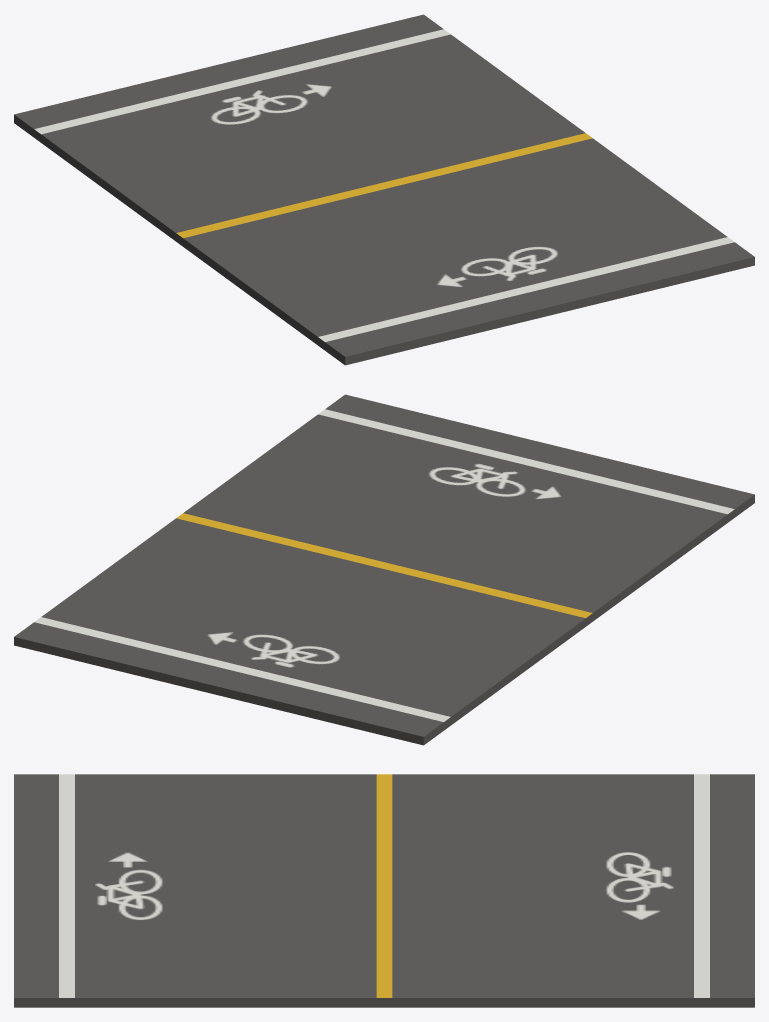
File: SM_Ground_RoadBike_700x500_01.fbx
3 renders of one model, top to bottom at view 1: azimuth 30°, elevation 25°; view 2: azimuth 150°, elevation 25°; view 3: azimuth 270°, elevation 25°, orthographic. The views are drawn at different scales.
Parts seen in each view (by area): view 1: SM_Ground_RoadBike_700x500_01; view 2: SM_Ground_RoadBike_700x500_01; view 3: SM_Ground_RoadBike_700x500_01.
Boxes of the visible parts, bbox=[...] form: SM_Ground_RoadBike_700x500_01: bbox=[14, 14, 754, 365]; SM_Ground_RoadBike_700x500_01: bbox=[14, 394, 754, 745]; SM_Ground_RoadBike_700x500_01: bbox=[14, 774, 754, 1007].
Size of the model in its own units: 5 by 0.1 by 7.
1 material, 1 textured.
